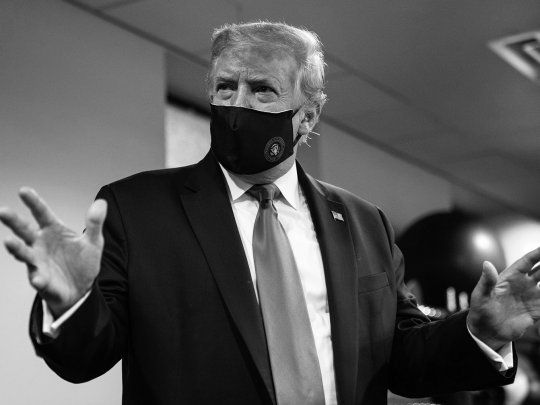barbijo: (202, 90, 304, 174)
